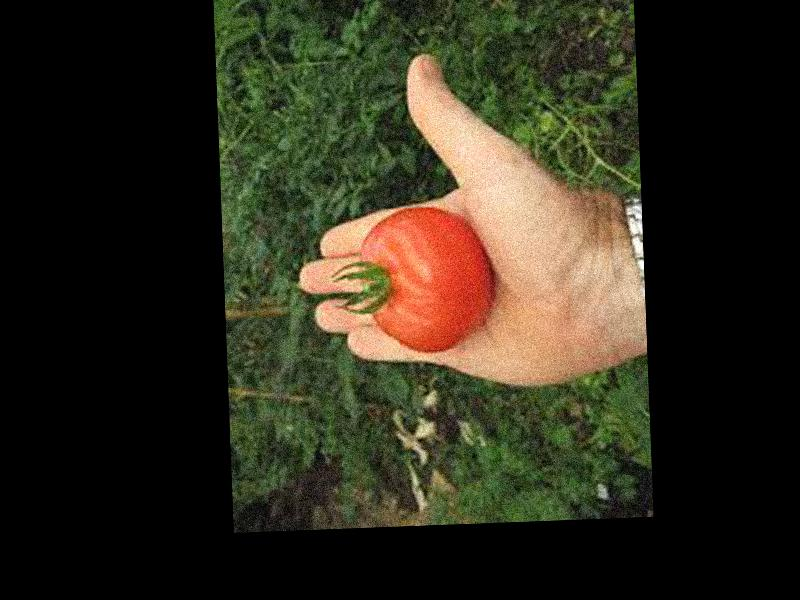Tomato: (360, 203, 493, 357)
